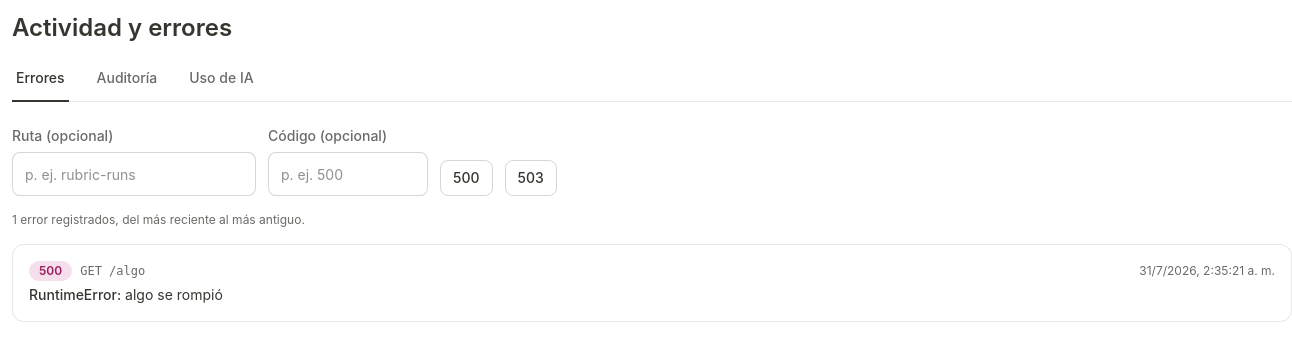
it: ActivityLogPage › shows the error tab by default and switches to the audit tab
Expected: the text "algo se rompió" is shown, [125,286,223,303]
Expected: the text "RuntimeError:" is shown, [29,286,121,303]
Click the tab "Auditoría" at (127,85), box [93,68,161,102]
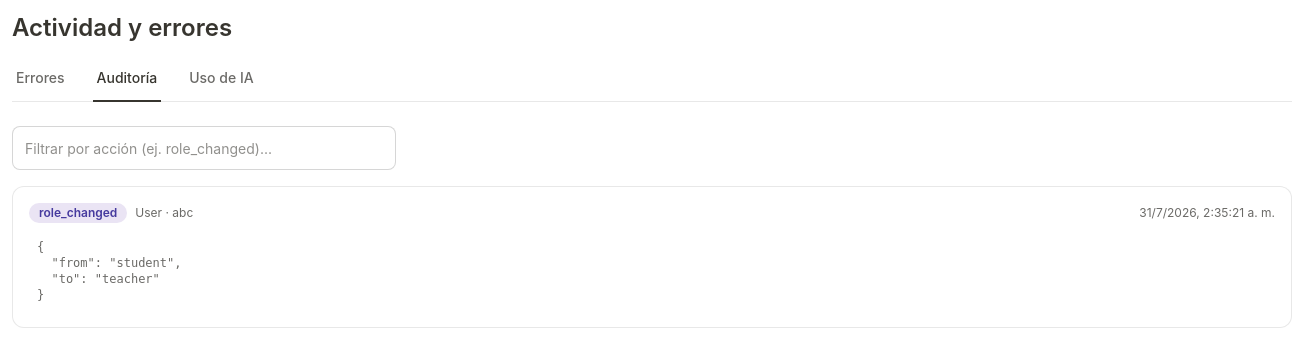
Expected: the text "role_changed" is shown, [29,203,127,223]
